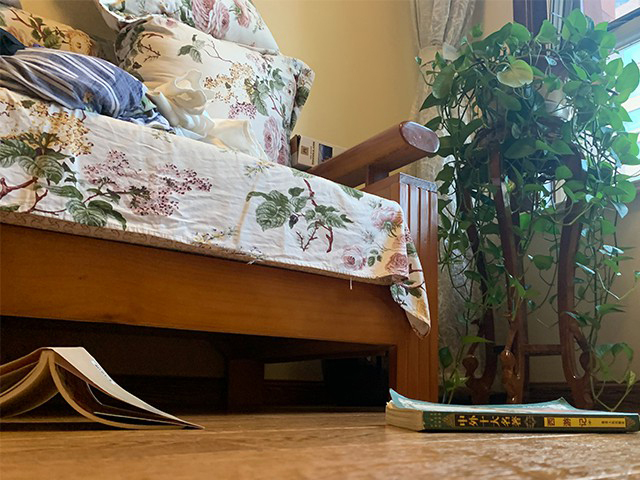book: (1, 345, 208, 429), (385, 388, 640, 434)
sofa: (1, 1, 440, 407)
